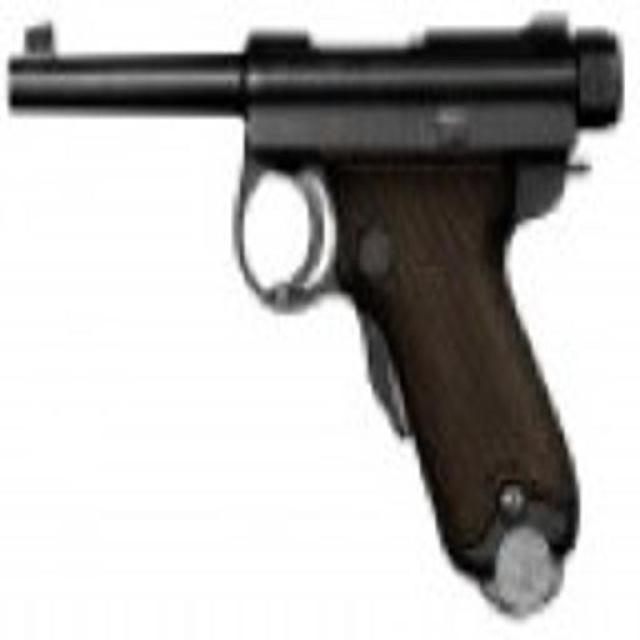pistol: (7, 15, 615, 617)
